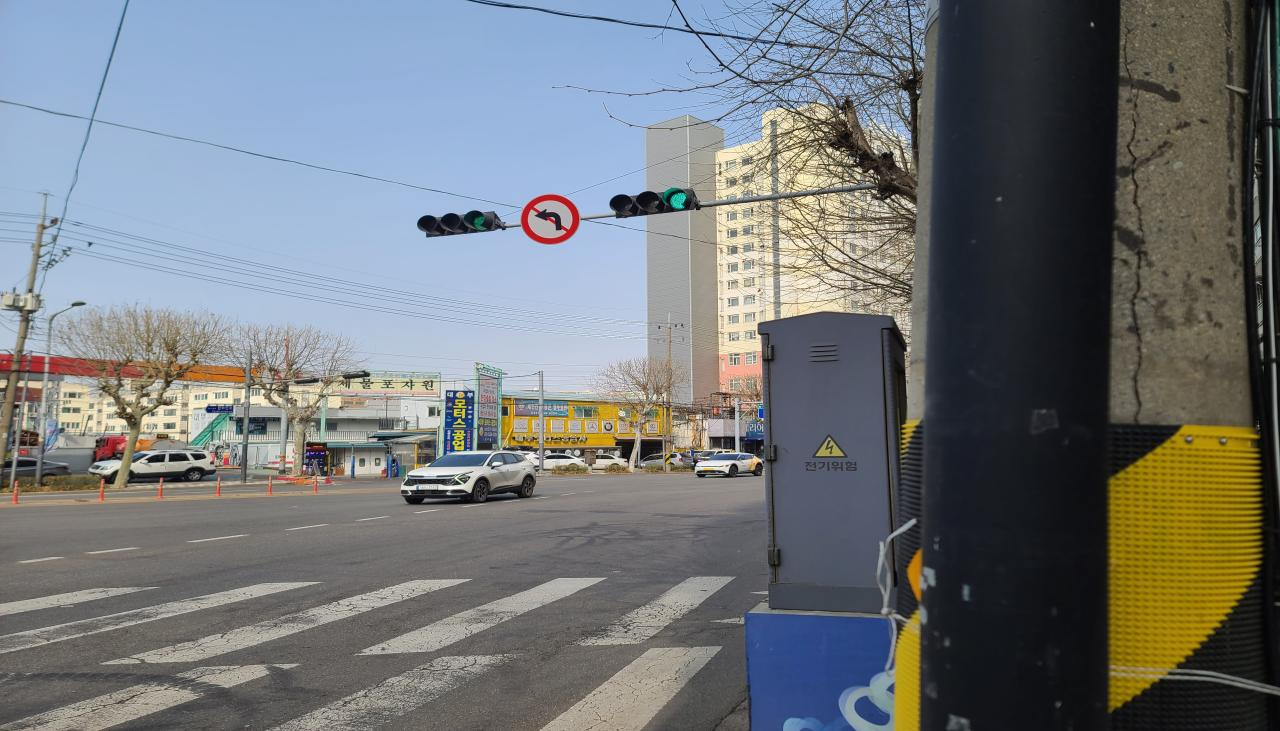Green Light: (663, 187, 691, 210), (465, 210, 491, 232)
